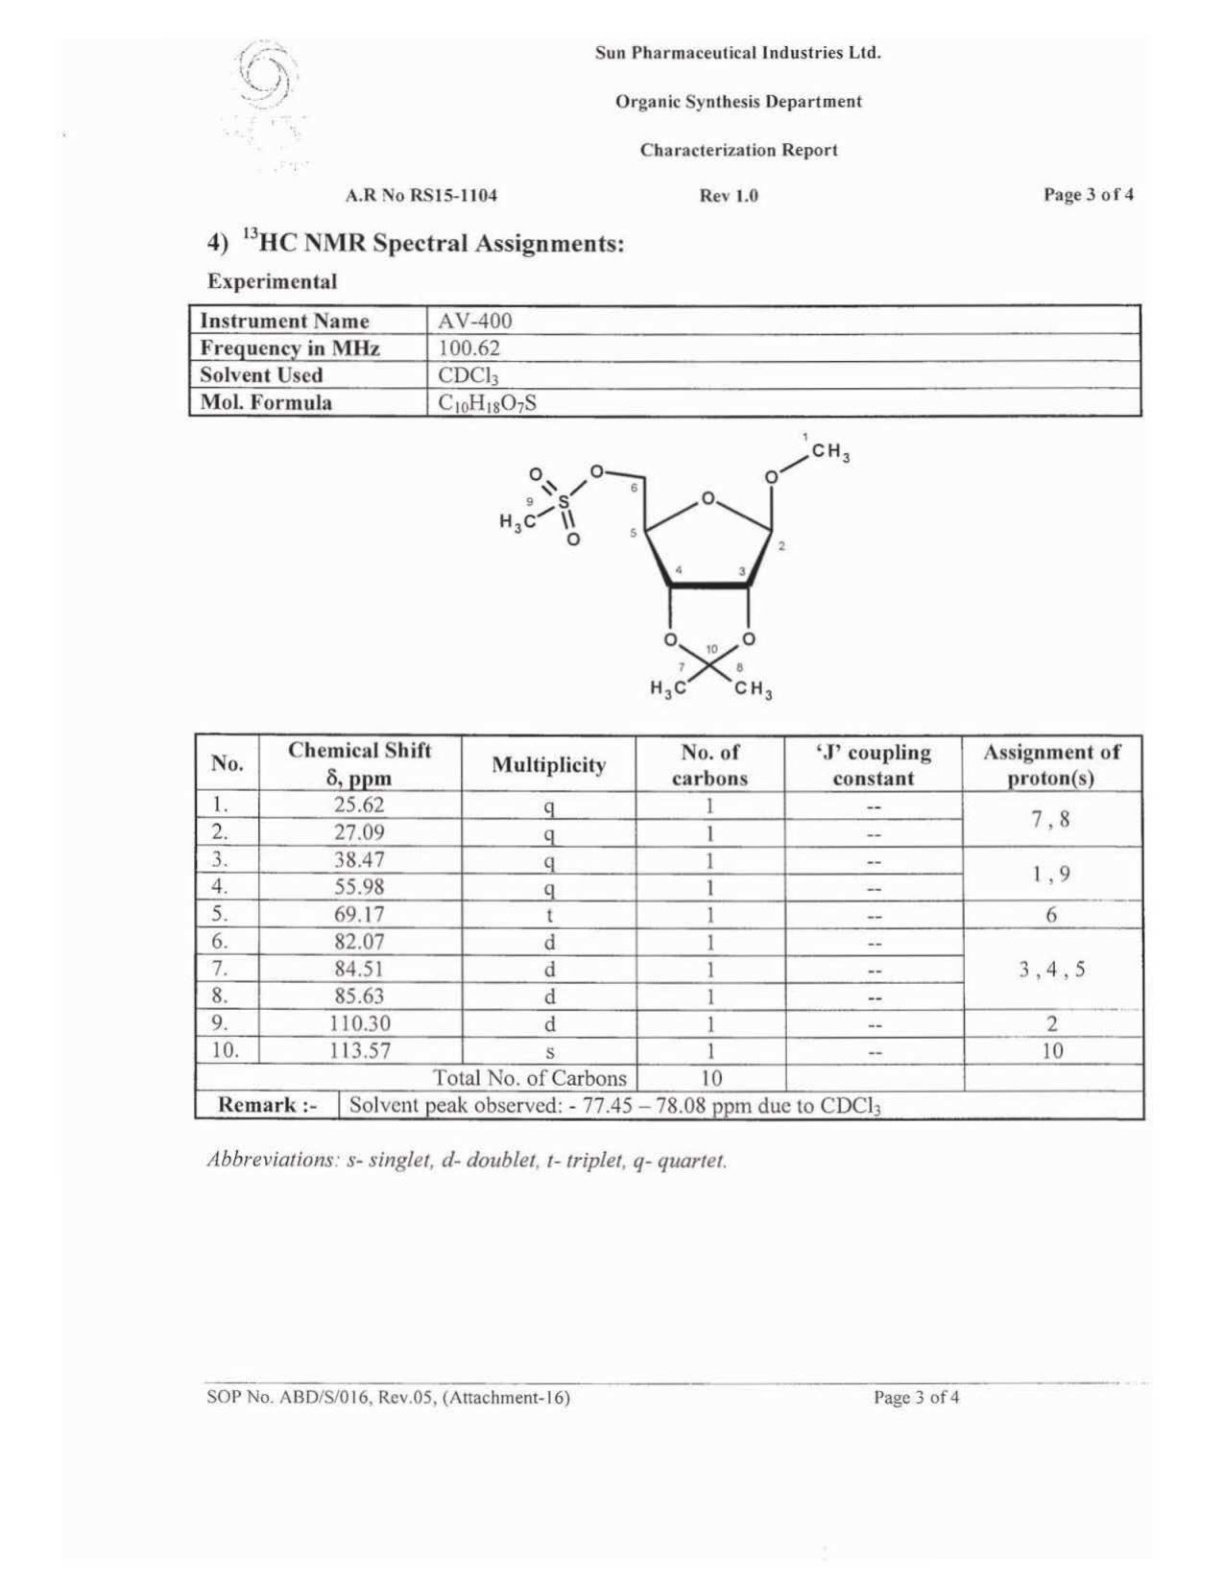full_lined: (186, 302, 1144, 418)
merged_cells: (193, 731, 1146, 1122)
